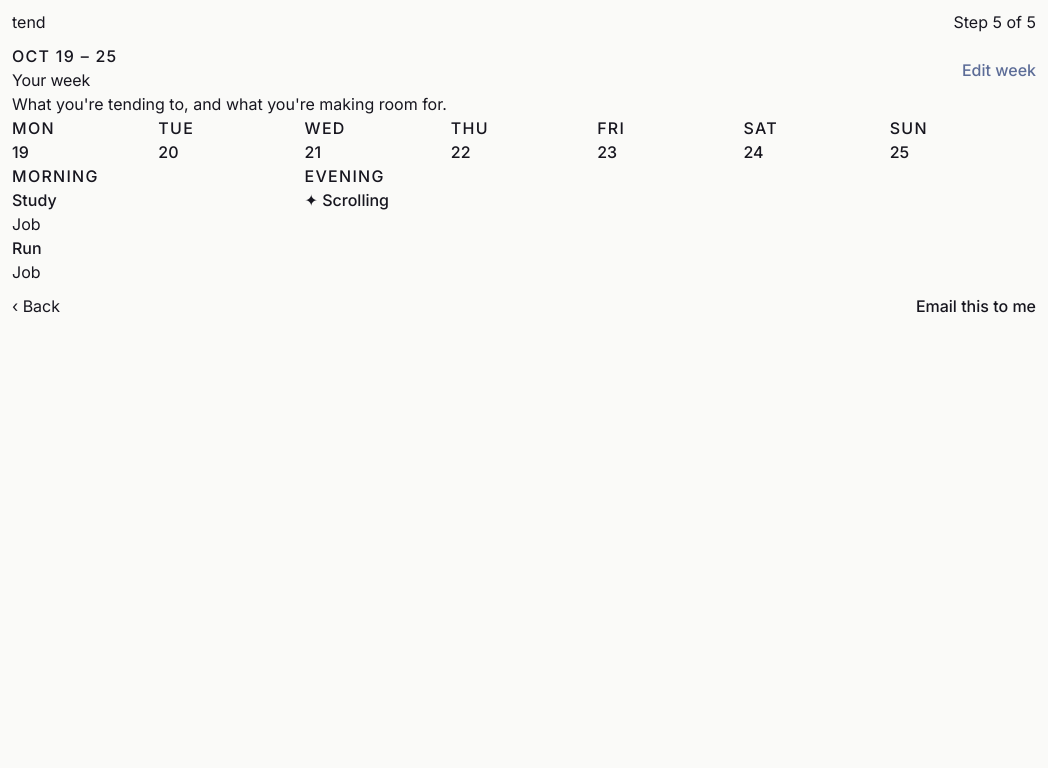
Test: YourWeekStep › opens as a read-only week, then edits from the top-right action
The image size is (1048, 768).
Expected: the heading "Morning" is shown, top-left (12, 166), bottom-right (99, 186)
Expected: the text "Study" is shown, top-left (12, 190), bottom-right (57, 210)
Click the button "Edit week".
click(999, 70)  # box top-left (962, 48), bottom-right (1036, 92)
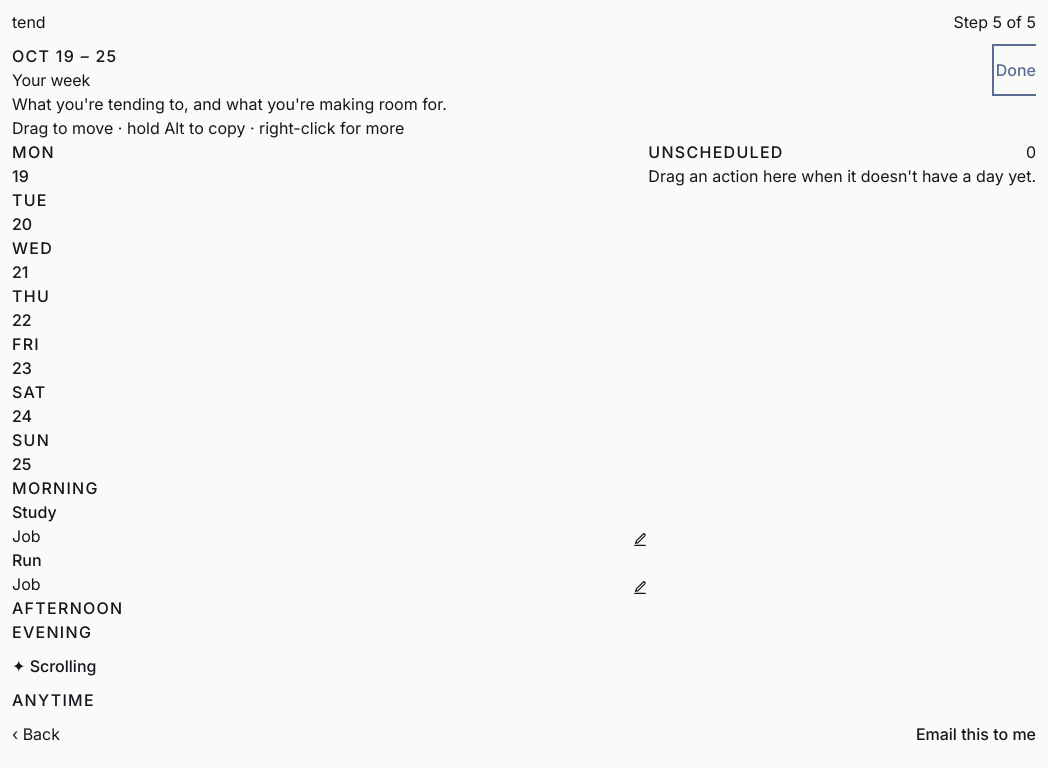
Now the button named "Study, Mon morning. Job" is shown, box top-left (12, 500), bottom-right (632, 524)
Now the text "Drag to move · hold Alt to copy · right-click for more" is shown, box top-left (12, 116), bottom-right (404, 140)
Now the element "Unscheduled" is shown, box top-left (648, 140), bottom-right (1036, 188)
Click the button "Done".
click(1016, 70)  # box top-left (996, 48), bottom-right (1036, 92)
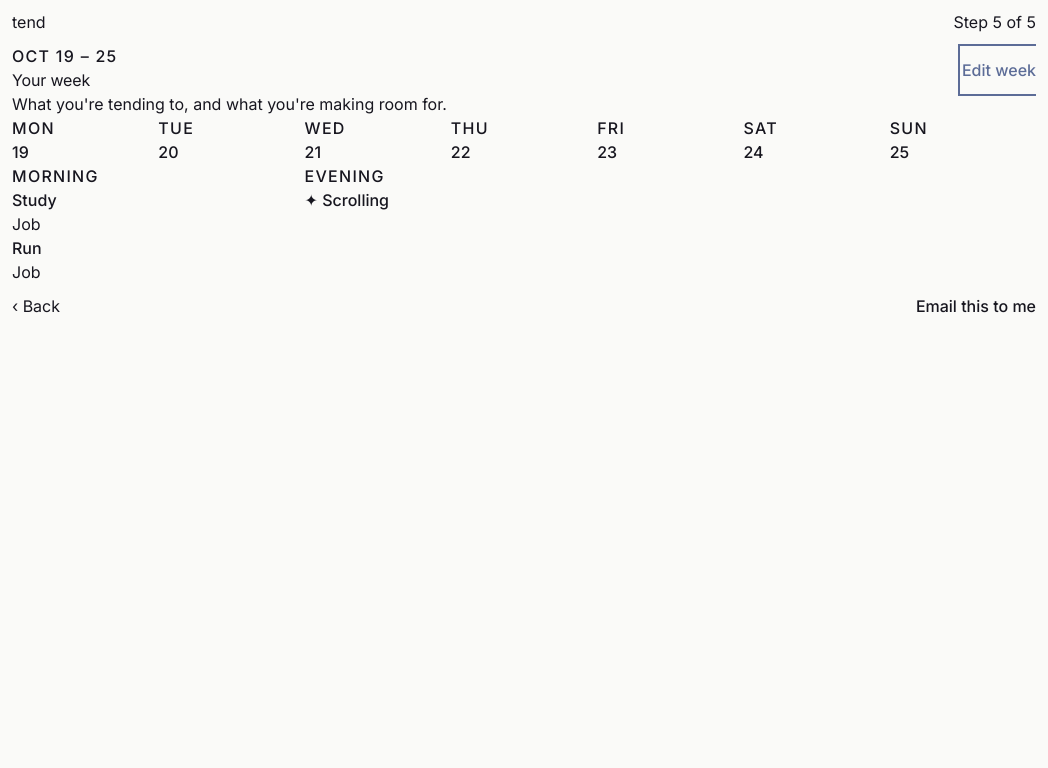
Expected: the text "Study" is shown, top-left (12, 190), bottom-right (57, 210)
Now the button "Edit week" is shown, box top-left (962, 48), bottom-right (1036, 92)
